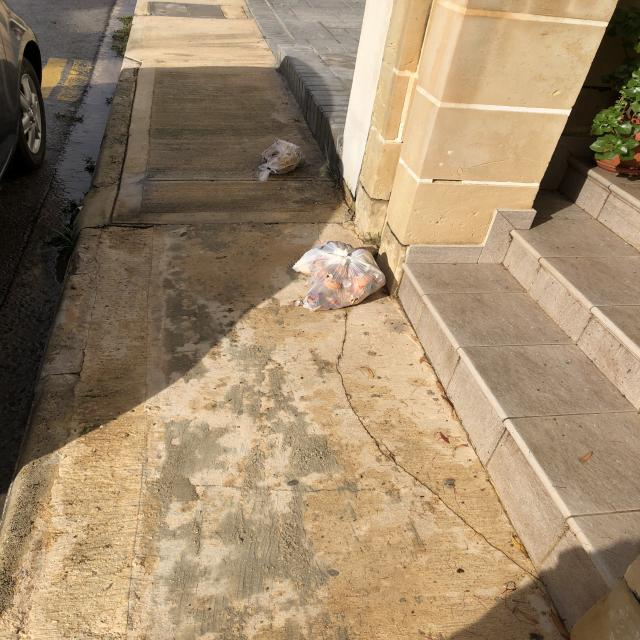Organic Waste -White Bag-: (293, 237, 392, 317), (255, 136, 313, 185)
